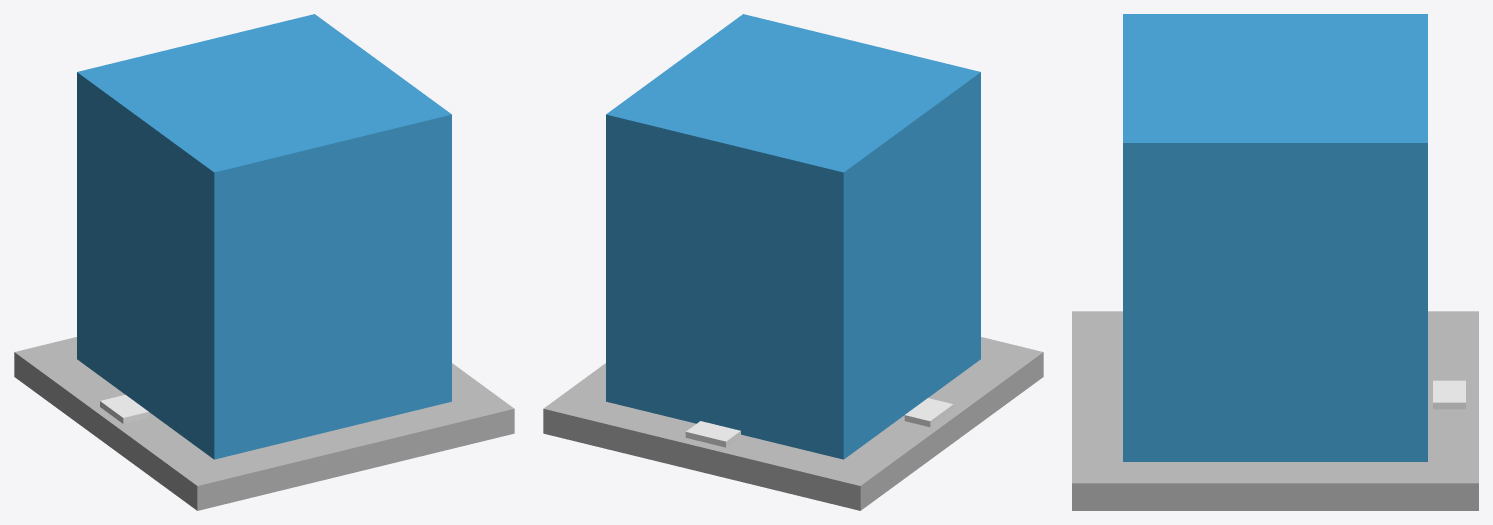
File: building2 1.fbx
3 renders of one model, left to right at view 1: azimuth 30°, elevation 25°; view 2: azimuth 150°, elevation 25°; view 3: azimuth 270°, elevation 25°, orthographic. The views are drawn at different scales.
Visible parts, largest first — view 1: Empty_Tile.007, Empty_Tile.008, Empty_Tile.006; view 2: Empty_Tile.007, Empty_Tile.008, Empty_Tile.005, Empty_Tile.006; view 3: Empty_Tile.007, Empty_Tile.008, Empty_Tile.005.
Boxes of the visible parts, x1=… form: Empty_Tile.007: x1=77, y1=14, x2=451, y2=459; Empty_Tile.008: x1=14, y1=337, x2=514, y2=510; Empty_Tile.006: x1=100, y1=394, x2=148, y2=423; Empty_Tile.007: x1=606, y1=14, x2=980, y2=459; Empty_Tile.008: x1=543, y1=337, x2=1043, y2=510; Empty_Tile.005: x1=685, y1=421, x2=740, y2=447; Empty_Tile.006: x1=904, y1=398, x2=953, y2=426; Empty_Tile.007: x1=1123, y1=14, x2=1427, y2=461; Empty_Tile.008: x1=1072, y1=311, x2=1478, y2=510; Empty_Tile.005: x1=1433, y1=380, x2=1465, y2=409.
Bounding box in the file's own units: 800 × 752 × 800.
